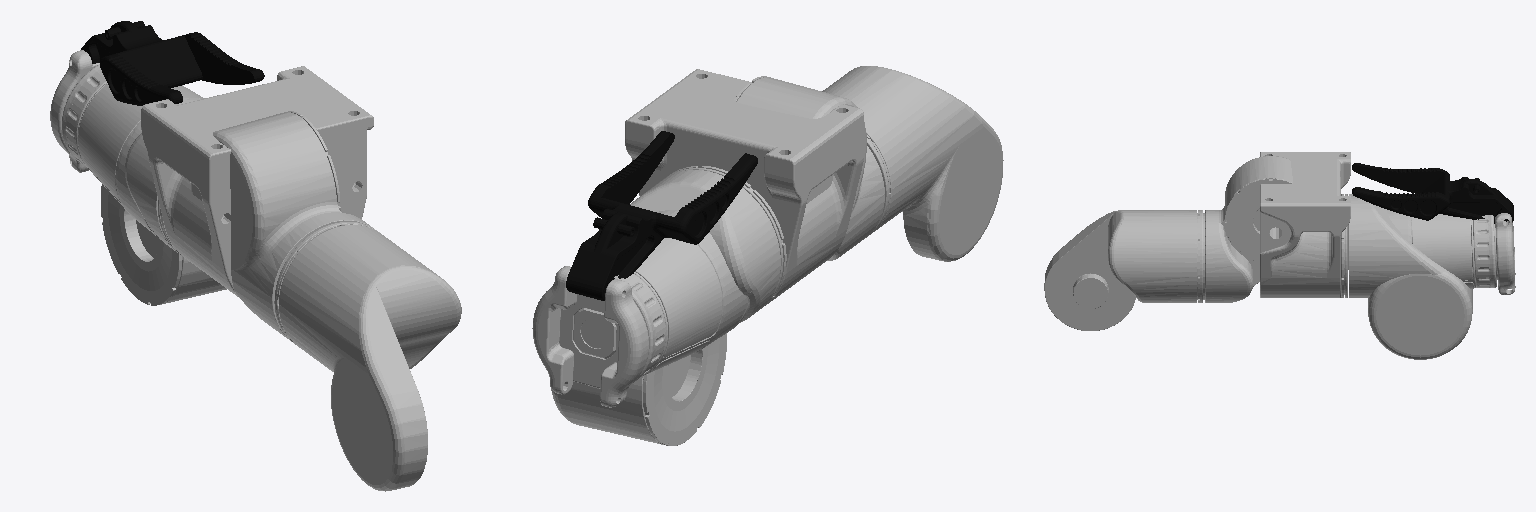
The robot description file, URDF, robot "RS2-7FN-Def-URDF-Exp":
<?xml version="1.0"?>
<!-- This URDF was automatically created by SolidWorks to URDF Exporter! Originally created by [author] ([email redacted]) 
     Commit Version: 1.5.1-0-g916b5db  Build Version: 1.5.7152.31018
     For more information, please see http://wiki.ros.org/sw_urdf_exporter -->
<robot
  name="RS2-7FN-Def-URDF-Exp">
  <link
    name="base_link">
    <inertial>
      <origin
        xyz="0.000164826894098182 0.0162088898903413 -0.0310730946898569"
        rpy="0 0 0" />
      <mass
        value="1.95256670190681" />
      <inertia
        ixx="0.0025845526417552"
        ixy="2.74996036672486E-06"
        ixz="3.46986433145239E-06"
        iyy="0.00220577888425278"
        iyz="8.7504619600549E-05"
        izz="0.00332542133201934" />
    </inertial>
    <visual>
      <origin
        xyz="0 0 0"
        rpy="0 0 0" />
      <geometry>
        <mesh
          filename="package://RS2-7FN-Def-URDF-Exp/meshes/base_link.STL" />
      </geometry>
      <material
        name="">
        <color
          rgba="0.752941176470588 0.752941176470588 0.752941176470588 1" />
      </material>
    </visual>
    <collision>
      <origin
        xyz="0 0 0"
        rpy="0 0 0" />
      <geometry>
        <mesh
          filename="package://RS2-7FN-Def-URDF-Exp/meshes/base_link.STL" />
      </geometry>
    </collision>
  </link>
  <link
    name="1019-1013-link">
    <inertial>
      <origin
        xyz="0.00846445483212577 -0.0244827539750618 -0.060442590142017"
        rpy="0 0 0" />
      <mass
        value="2.0678746416529" />
      <inertia
        ixx="0.00330229113247758"
        ixy="0.000296034537163315"
        ixz="0.000245878650172201"
        iyy="0.00216228624668431"
        iyz="-0.000684380183759875"
        izz="0.00283007800773073" />
    </inertial>
    <visual>
      <origin
        xyz="0 0 0"
        rpy="0 0 0" />
      <geometry>
        <mesh
          filename="package://RS2-7FN-Def-URDF-Exp/meshes/1019-1013-link.STL" />
      </geometry>
      <material
        name="">
        <color
          rgba="0.752941176470588 0.752941176470588 0.752941176470588 1" />
      </material>
    </visual>
    <collision>
      <origin
        xyz="0 0 0"
        rpy="0 0 0" />
      <geometry>
        <mesh
          filename="package://RS2-7FN-Def-URDF-Exp/meshes/1019-1013-link.STL" />
      </geometry>
    </collision>
  </link>
  <joint
    name="1019-1013-joint"
    type="continuous">
    <origin
      xyz="0 0.05445 0"
      rpy="1.5707963267949 0.0258390165149759 0" />
    <parent
      link="base_link" />
    <child
      link="1019-1013-link" />
    <axis
      xyz="0 0 1" />
  </joint>
  <link
    name="1013-1015-link">
    <inertial>
      <origin
        xyz="-0.000900553172268328 -0.0373680074720055 0.150200282703083"
        rpy="0 0 0" />
      <mass
        value="5.03116562956713" />
      <inertia
        ixx="0.0125948781169476"
        ixy="0.000211995141552501"
        ixz="-0.000505685577309012"
        iyy="0.0114649582486799"
        iyz="6.52225611773322E-05"
        izz="0.00528976449626351" />
    </inertial>
    <visual>
      <origin
        xyz="0 0 0"
        rpy="0 0 0" />
      <geometry>
        <mesh
          filename="package://RS2-7FN-Def-URDF-Exp/meshes/1013-1015-link.STL" />
      </geometry>
      <material
        name="">
        <color
          rgba="0.752941176470588 0.752941176470588 0.752941176470588 1" />
      </material>
    </visual>
    <collision>
      <origin
        xyz="0 0 0"
        rpy="0 0 0" />
      <geometry>
        <mesh
          filename="package://RS2-7FN-Def-URDF-Exp/meshes/1013-1015-link.STL" />
      </geometry>
    </collision>
  </link>
  <joint
    name="1013-1015-joint"
    type="continuous">
    <origin
      xyz="0.000638149815500067 -0.0459955733175806 -0.0810500000000005"
      rpy="0 0 0.0138732670974071" />
    <parent
      link="1019-1013-link" />
    <child
      link="1013-1015-link" />
    <axis
      xyz="1 0 0" />
  </joint>
  <link
    name="1015-elbow-link">
    <inertial>
      <origin
        xyz="-0.00711789380788915 -0.0336425516963982 0.0443019867408018"
        rpy="0 0 0" />
      <mass
        value="1.32885498073102" />
      <inertia
        ixx="0.00222902532912342"
        ixy="0.00024399148847761"
        ixz="-0.000382471310938442"
        iyy="0.0019253215171964"
        iyz="0.000467727454008622"
        izz="0.00153704514501072" />
    </inertial>
    <visual>
      <origin
        xyz="0 0 0"
        rpy="0 0 0" />
      <geometry>
        <mesh
          filename="package://RS2-7FN-Def-URDF-Exp/meshes/1015-elbow-link.STL" />
      </geometry>
      <material
        name="">
        <color
          rgba="0.752941176470588 0.752941176470588 0.752941176470588 1" />
      </material>
    </visual>
    <collision>
      <origin
        xyz="0 0 0"
        rpy="0 0 0" />
      <geometry>
        <mesh
          filename="package://RS2-7FN-Def-URDF-Exp/meshes/1015-elbow-link.STL" />
      </geometry>
    </collision>
  </link>
  <joint
    name="1015-elbow-joint"
    type="continuous">
    <origin
      xyz="0 -0.00519999999999937 0.290553825516047"
      rpy="3.141592653589793 0 0" />
    <parent
      link="1013-1015-link" />
    <child
      link="1015-elbow-link" />
    <axis
      xyz="1 0 0" />
  </joint>
  <link
    name="1015-to-wrist-link">
    <inertial>
      <origin
        xyz="-0.00719221871729809 0.0204450715361163 -0.0594818589608472"
        rpy="0 0 0" />
      <mass
        value="1.43887470155011" />
      <inertia
        ixx="0.00188013181954729"
        ixy="0.000153857689104543"
        ixz="-0.000142683550970169"
        iyy="0.00124925601189501"
        iyz="0.000421297609297084"
        izz="0.0015860060041461" />
    </inertial>
    <visual>
      <origin
        xyz="0 0 0"
        rpy="0 0 0" />
      <geometry>
        <mesh
          filename="package://RS2-7FN-Def-URDF-Exp/meshes/1015-to-wrist-link.STL" />
      </geometry>
      <material
        name="">
        <color
          rgba="0.752941176470588 0.752941176470588 0.752941176470588 1" />
      </material>
    </visual>
    <collision>
      <origin
        xyz="0 0 0"
        rpy="0 0 0" />
      <geometry>
        <mesh
          filename="package://RS2-7FN-Def-URDF-Exp/meshes/1015-to-wrist-link.STL" />
      </geometry>
    </collision>
  </link>
  <joint
    name="1015-to-wrist-joint"
    type="continuous">
    <origin
      xyz="-0.000149999999999901 -0.0407999999999999 0.0804868346433256"
      rpy="0 3.1415 3.10225642180847" />
    <parent
      link="1015-elbow-link" />
    <child
      link="1015-to-wrist-link" />
    <axis
      xyz="0 0 1" />
  </joint>
  <link
    name="wrist-link">
    <inertial>
      <origin
        xyz="-0.0075407 -0.03289 0.040272"
        rpy="0 0 0" />
      <mass
        value="1.21" />
      <inertia
        ixx="0.0019217"
        ixy="0.0002394"
        ixz="-0.00033941"
        iyy="0.0016188"
        iyz="0.00043067"
        izz="0.0014276" />
    </inertial>
    <visual>
      <origin
        xyz="0 0 0"
        rpy="0 0 0" />
      <geometry>
        <mesh
          filename="package://RS2-7FN-Def-URDF-Exp/meshes/wrist-link.STL" />
      </geometry>
      <material
        name="">
        <color
          rgba="0.75294 0.75294 0.75294 1" />
      </material>
    </visual>
    <collision>
      <origin
        xyz="0 0 0"
        rpy="0 0 0" />
      <geometry>
        <mesh
          filename="package://RS2-7FN-Def-URDF-Exp/meshes/wrist-link.STL" />
      </geometry>
    </collision>
  </link>
  <joint
    name="wrist-joint"
    type="continuous">
    <origin
      xyz="0 0.0408000000000001 -0.0784631653566745"
      rpy="3.09778822172354 0 -3.14159265358979" />
    <parent
      link="1015-to-wrist-link" />
    <child
      link="wrist-link" />
    <axis
      xyz="-1 0 0" />
  </joint>
  <link
    name="gripper_Link">
    <inertial>
      <origin
        xyz="4.54346533854122E-06 -5.68667371086094E-06 0.0730141949600499"
        rpy="0 0 0" />
      <mass
        value="1.50806816865306" />
      <inertia
        ixx="0.00127659411519893"
        ixy="2.34034390034126E-10"
        ixz="-6.1299845401978E-08"
        iyy="0.00128628497030525"
        iyz="1.1393914815792E-08"
        izz="0.00105996163979503" />
    </inertial>
    <visual>
      <origin
        xyz="0 0 0"
        rpy="0 0 0" />
      <geometry>
        <mesh
          filename="package://RS2-7FN-Def-URDF-Exp/meshes/gripper_Link.STL" />
      </geometry>
      <material
        name="">
        <color
          rgba="0.752941176470588 0.752941176470588 0.752941176470588 1" />
      </material>
    </visual>
    <collision>
      <origin
        xyz="0 0 0"
        rpy="0 0 0" />
      <geometry>
        <mesh
          filename="package://RS2-7FN-Def-URDF-Exp/meshes/gripper_Link.STL" />
      </geometry>
    </collision>
  </link>
  <joint
    name="gripper_joint"
    type="continuous">
    <origin
      xyz="-5E-05 -0.0408 0.066532"
      rpy="0 0 0" />
    <parent
      link="wrist-link" />
    <child
      link="gripper_Link" />
    <axis
      xyz="0 0 1" />
  </joint>
  <link
    name="jaw_outside_Link">
    <inertial>
      <origin
        xyz="-5.35134721466046E-08 -0.0169111108173385 -0.0527046244794716"
        rpy="0 0 0" />
      <mass
        value="0.162219609910186" />
      <inertia
        ixx="0.000175262410849322"
        ixy="-1.97894922121464E-10"
        ixz="-2.44422920001455E-10"
        iyy="0.000207264045549705"
        iyz="-3.35887822600556E-05"
        izz="6.41428226701829E-05" />
    </inertial>
    <visual>
      <origin
        xyz="0 0 0"
        rpy="0 0 0" />
      <geometry>
        <mesh
          filename="package://RS2-7FN-Def-URDF-Exp/meshes/jaw_outside_Link.STL" />
      </geometry>
      <material
        name="">
        <color
          rgba="0.0941176470588235 0.0941176470588235 0.0941176470588235 1" />
      </material>
    </visual>
    <collision>
      <origin
        xyz="0 0 0"
        rpy="0 0 0" />
      <geometry>
        <mesh
          filename="package://RS2-7FN-Def-URDF-Exp/meshes/jaw_outside_Link.STL" />
      </geometry>
    </collision>
  </link>
  <joint
    name="jaw_outside_joint"
    type="continuous">
    <origin
      xyz="0 0.033 0.14059"
      rpy="-0 0 -3.1416" />
    <parent
      link="gripper_Link" />
    <child
      link="jaw_outside_Link" />
    <axis
      xyz="-1 0 0" />
  </joint>
  <link
    name="jaw_inside_link">
    <inertial>
      <origin
        xyz="0.000499971361975354 -0.0168215276830385 -0.05213027367461"
        rpy="0 0 0" />
      <mass
        value="0.151327237847462" />
      <inertia
        ixx="0.000173741820316011"
        ixy="-3.85818316107868E-11"
        ixz="1.7368198715776E-10"
        iyy="0.000180460675926108"
        iyz="-3.37839754325243E-05"
        izz="3.8241494154127E-05" />
    </inertial>
    <visual>
      <origin
        xyz="0 0 0"
        rpy="0 0 0" />
      <geometry>
        <mesh
          filename="package://RS2-7FN-Def-URDF-Exp/meshes/jaw_inside_link.STL" />
      </geometry>
      <material
        name="">
        <color
          rgba="0.0941176470588235 0.0941176470588235 0.0941176470588235 1" />
      </material>
    </visual>
    <collision>
      <origin
        xyz="0 0 0"
        rpy="0 0 0" />
      <geometry>
        <mesh
          filename="package://RS2-7FN-Def-URDF-Exp/meshes/jaw_inside_link.STL" />
      </geometry>
    </collision>
  </link>
  <joint
    name="jaw_inside_joint"
    type="continuous">
    <origin
      xyz="0 -0.0329999999999991 0.140587678585277"
      rpy="-3.1338442526081107 0 0" />
    <parent
      link="gripper_Link" />
    <child
      link="jaw_inside_link" />
    <axis
      xyz="1 0 0" />
  </joint>
</robot>

--- What the picture shows (computed from the rendered views, not written in the file) ---
The picture shows the robot from 3 angles, left to right: view 1: azimuth 30°, elevation 25°; view 2: azimuth 150°, elevation 25°; view 3: azimuth 270°, elevation 25°; orthographic projection.
Model RS2-7FN-Def-URDF-Exp with 9 links and 8 joints (8 continuous), rooted at base_link, posed every joint at zero.
Links seen in each view (by area): view 1: 1015-elbow-link, base_link, 1015-to-wrist-link, jaw_outside_Link, gripper_Link, 1019-1013-link; view 2: base_link, gripper_Link, 1015-elbow-link, 1019-1013-link, jaw_outside_Link, 1015-to-wrist-link; view 3: 1015-elbow-link, 1019-1013-link, base_link, 1015-to-wrist-link, gripper_Link, jaw_outside_Link.
Boxes of the visible links, x1,y1,x2,y2 form: 1015-elbow-link: (277, 223, 461, 491); base_link: (141, 66, 373, 296); 1015-to-wrist-link: (191, 111, 376, 344); jaw_outside_Link: (81, 21, 264, 105); gripper_Link: (50, 50, 204, 239); 1019-1013-link: (101, 133, 226, 305); base_link: (625, 69, 863, 305); gripper_Link: (532, 210, 749, 407); 1015-elbow-link: (822, 66, 1003, 261); 1019-1013-link: (551, 168, 783, 445); jaw_outside_Link: (566, 131, 757, 300); 1015-to-wrist-link: (733, 76, 888, 260); 1015-elbow-link: (1044, 210, 1199, 330); 1019-1013-link: (1344, 194, 1472, 359); base_link: (1260, 152, 1350, 297); 1015-to-wrist-link: (1200, 156, 1292, 302); gripper_Link: (1387, 210, 1515, 294); jaw_outside_Link: (1352, 163, 1513, 223).
Bounding box of the posed robot: 0.1113 × 0.4152 × 0.164 m (x, y, z).
Meshes: 9 distinct files referenced, 6 mesh visuals loaded (6 binary STL); not drawn: 3 (reference not matched to a file when rendering).